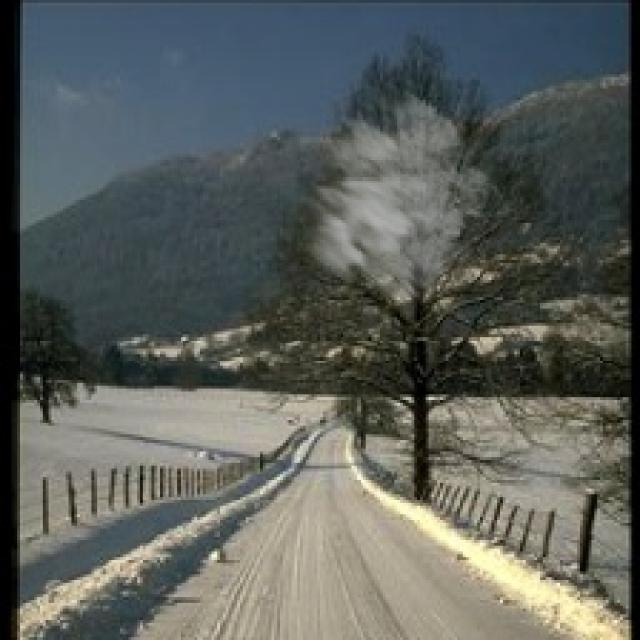smoke: (269, 83, 500, 317)
